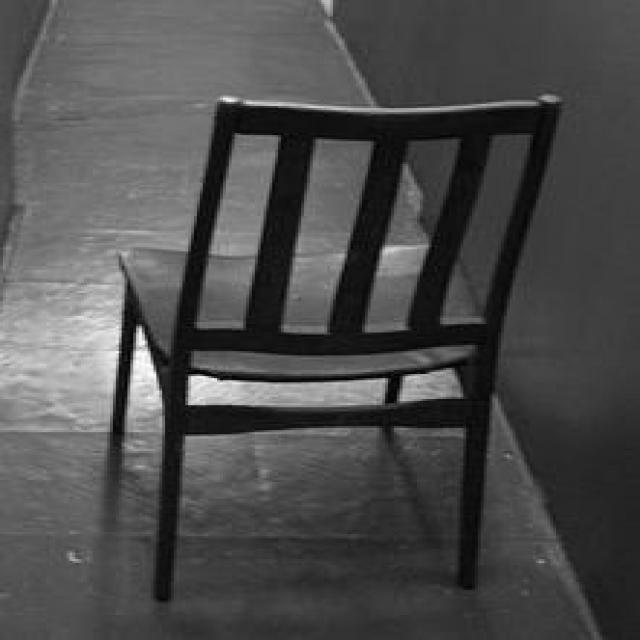chair: (104, 90, 562, 594)
